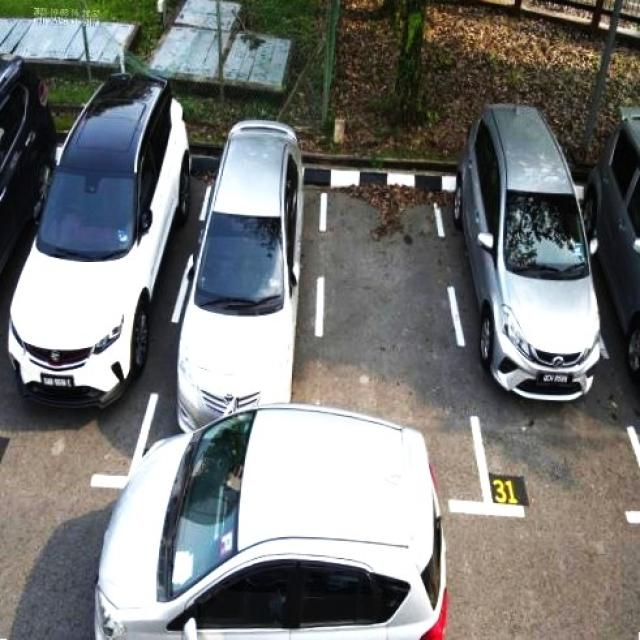Legalparking: (0, 34, 640, 425)
illegalparking: (57, 389, 549, 640)
